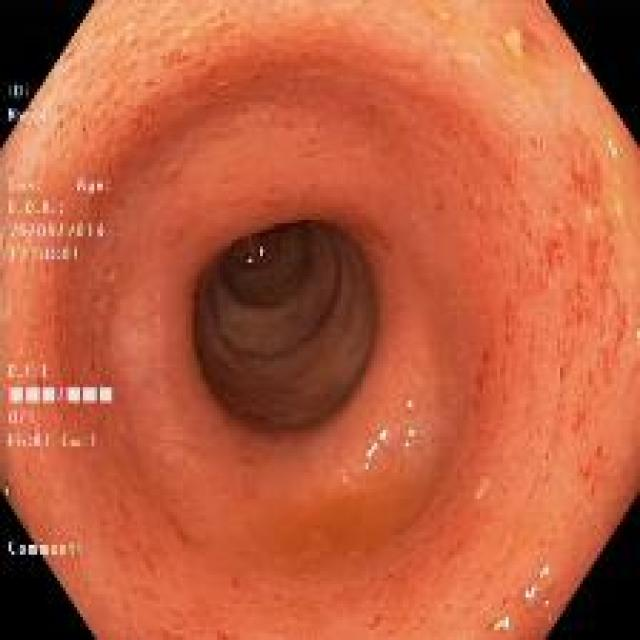ulcerative-colitis-grade-1: (2, 3, 640, 639)
